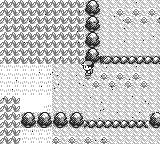captura: (1, 0, 84, 64), (1, 97, 20, 143)
main: (81, 60, 94, 76)
no-caminable: (21, 112, 84, 128), (84, 0, 100, 62), (148, 112, 160, 128)
salto: (85, 120, 148, 128), (101, 56, 160, 64)
